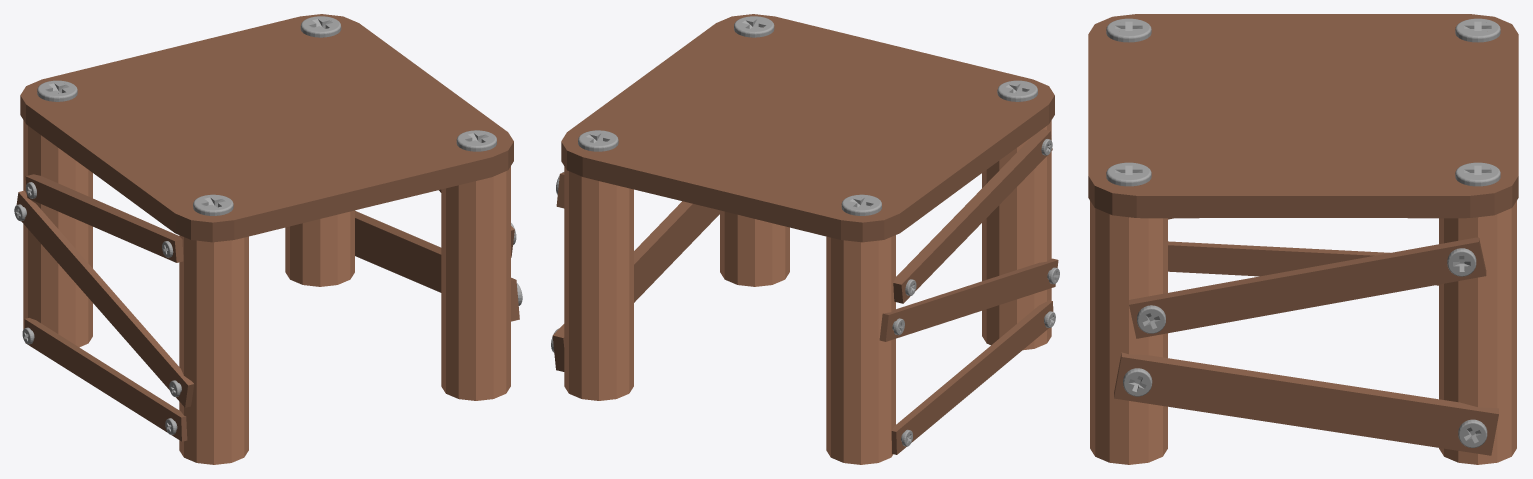
The model's file is Middle Thing.fbx.
3 renders of one model, left to right at view 1: azimuth 30°, elevation 25°; view 2: azimuth 150°, elevation 25°; view 3: azimuth 270°, elevation 25°, orthographic. The views are drawn at different scales.
Parts seen in each view (by area): view 1: Cube, Cylinder, Cube.003, Bolt.010, Bolt; view 2: Cube, Cylinder, Cube.003, Bolt.010, Bolt; view 3: Cube, Cube.003, Cylinder, Bolt.010, Bolt.
Boxes of the visible parts, x1,y1,x2,y2 form: Cube: (20, 14, 513, 242); Cylinder: (23, 120, 510, 464); Cube.003: (16, 174, 519, 441); Bolt.010: (37, 16, 496, 215); Bolt: (14, 182, 522, 434); Cube: (561, 14, 1054, 242); Cylinder: (564, 120, 1051, 464); Cube.003: (552, 129, 1058, 454); Bolt.010: (578, 16, 1037, 215); Bolt: (551, 139, 1059, 446); Cube: (1088, 14, 1518, 218); Cube.003: (1114, 218, 1498, 455); Cylinder: (1090, 201, 1516, 464); Bolt.010: (1106, 18, 1500, 186); Bolt: (1123, 248, 1487, 447).
Bounding box in the file's own units: 312 × 213 × 300.
